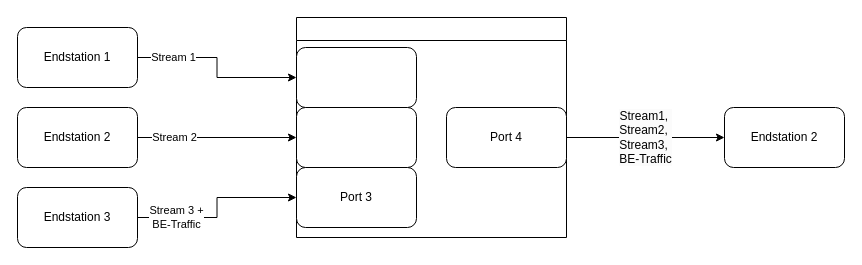
Image size: 862x265. Some labels were removed from this diagram. Each missing label, with the box of its shape:
Port 1: (296, 46, 416, 108)
Port 2: (296, 106, 416, 168)
Switch: (296, 16, 566, 238)
